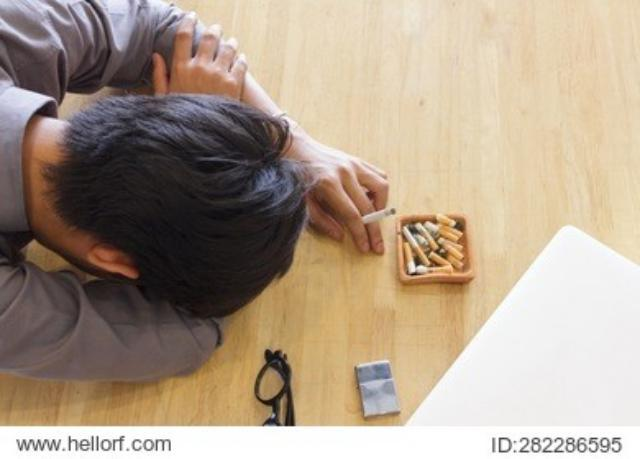Smoking: (362, 314, 418, 392), (370, 308, 372, 346)
